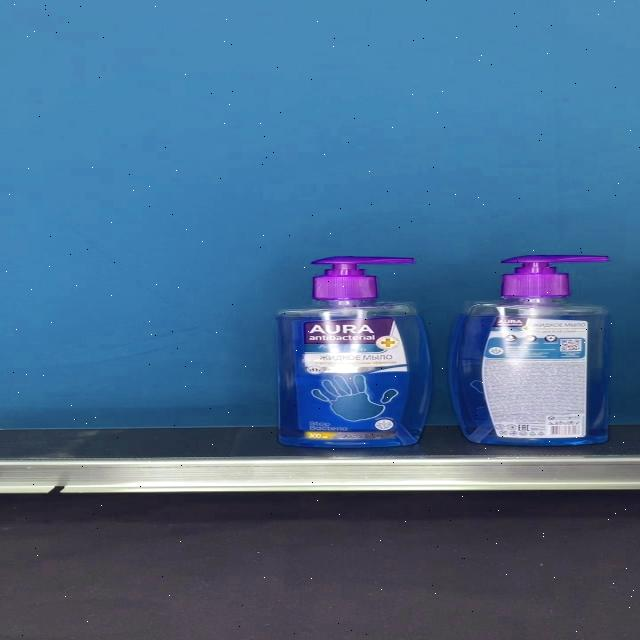Bottle: (449, 255, 610, 446), (276, 256, 432, 448)
Cap: (500, 255, 609, 298), (310, 257, 414, 299)
